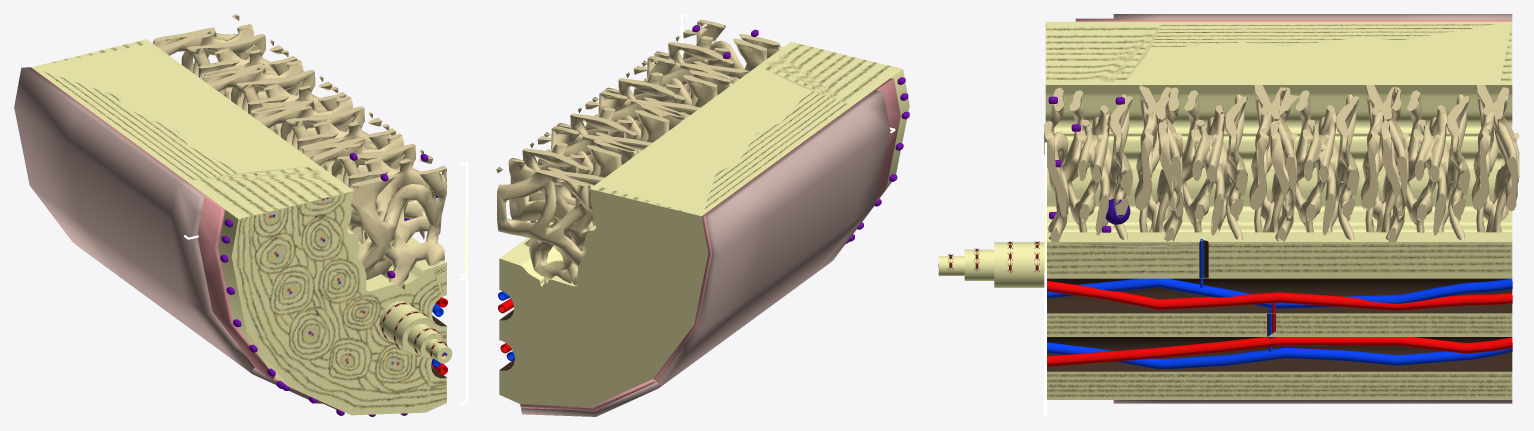
The model's file is osteon.glb.
3 views of the same model, side by side, from view 1: azimuth 30°, elevation 25°; view 2: azimuth 150°, elevation 25°; view 3: azimuth 270°, elevation 25° (orthographic). The views are drawn at different scales.
Visible parts, largest first — view 1: cz-matrix, cz-fibrous, cz-trabeculae, cz-cellular, cz-osteon, cz-osteoblasts; view 2: cz-matrix, cz-fibrous, cz-trabeculae, cz-cellular, cz-osteoblasts, cz-vessels; view 3: cz-matrix, cz-trabeculae, cz-vessels, cz-canal, cz-fibrous, cz-osteon, cz-cellular.
Part boxes in pixels (x1=…): cz-matrix: x1=31, y1=39, x2=446, y2=415; cz-fibrous: x1=14, y1=67, x2=322, y2=403; cz-trabeculae: x1=152, y1=14, x2=447, y2=288; cz-cellular: x1=29, y1=67, x2=336, y2=409; cz-osteon: x1=379, y1=301, x2=452, y2=363; cz-osteoblasts: x1=220, y1=153, x2=438, y2=416; cz-matrix: x1=499, y1=41, x2=909, y2=406; cz-fibrous: x1=521, y1=90, x2=889, y2=416; cz-trabeculae: x1=496, y1=19, x2=782, y2=285; cz-cellular: x1=520, y1=78, x2=900, y2=410; cz-osteoblasts: x1=692, y1=25, x2=909, y2=243; cz-vessels: x1=498, y1=291, x2=514, y2=360; cz-matrix: x1=1045, y1=21, x2=1512, y2=399; cz-trabeculae: x1=1044, y1=85, x2=1519, y2=241; cz-vessels: x1=938, y1=239, x2=1512, y2=368; cz-canal: x1=1047, y1=240, x2=1512, y2=371; cz-fibrous: x1=1113, y1=14, x2=1512, y2=403; cz-osteon: x1=938, y1=242, x2=1044, y2=287; cz-cellular: x1=1075, y1=18, x2=1512, y2=21.
Bounding box in the file's own units: 7.66 × 7.43 × 13.67.
15 materials, 2 textured.
